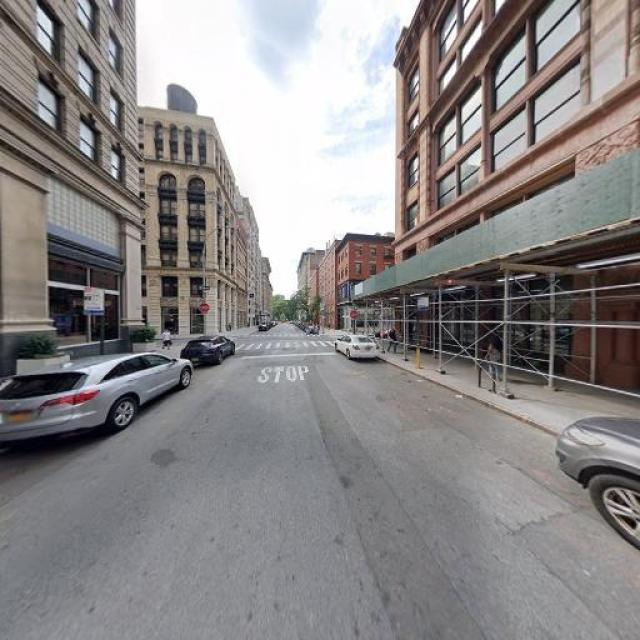Building: (395, 1, 640, 395), (1, 1, 134, 379)
